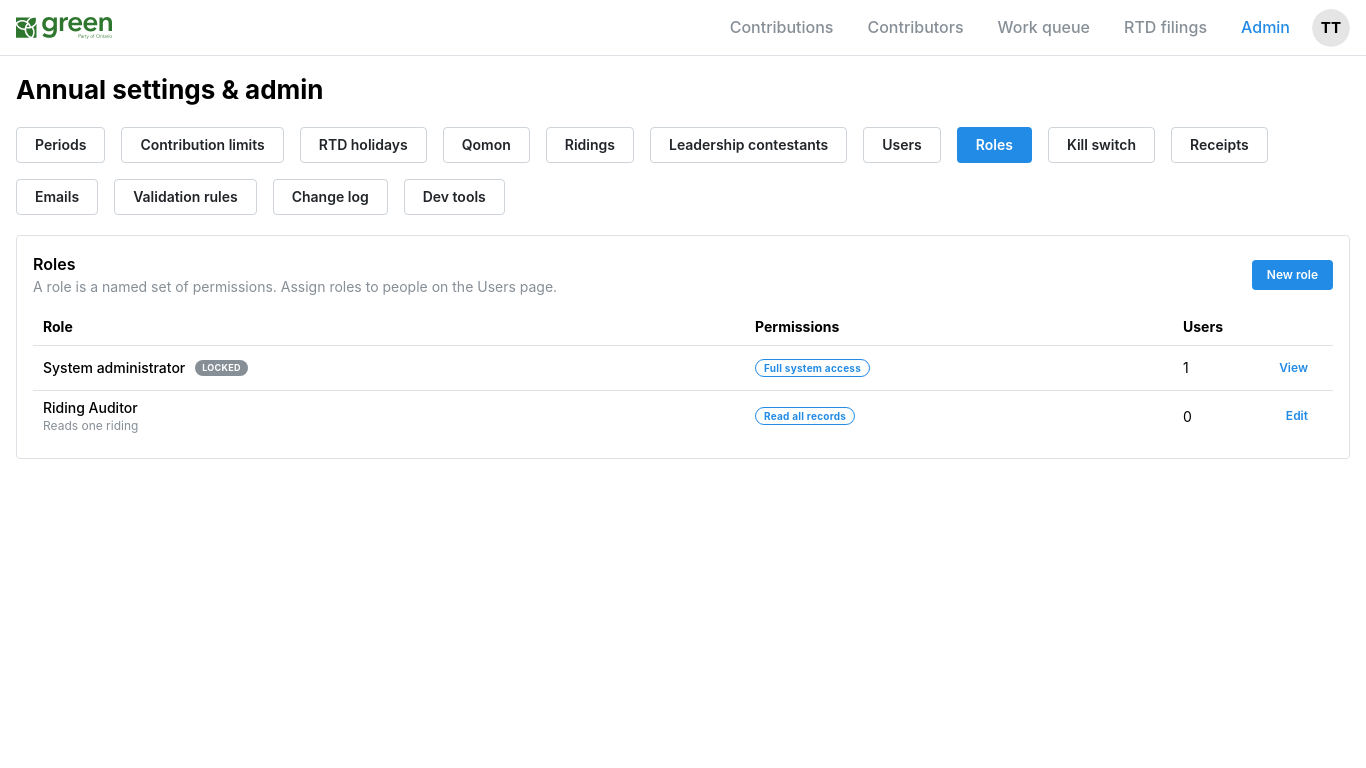
Test: the locked sysadmin role opens read-only
What coordinates should you click on to do the following:
click the button "View"
I would click on:
 (1294, 368)
Its box is x1=1264 y1=353 x2=1323 y2=383.
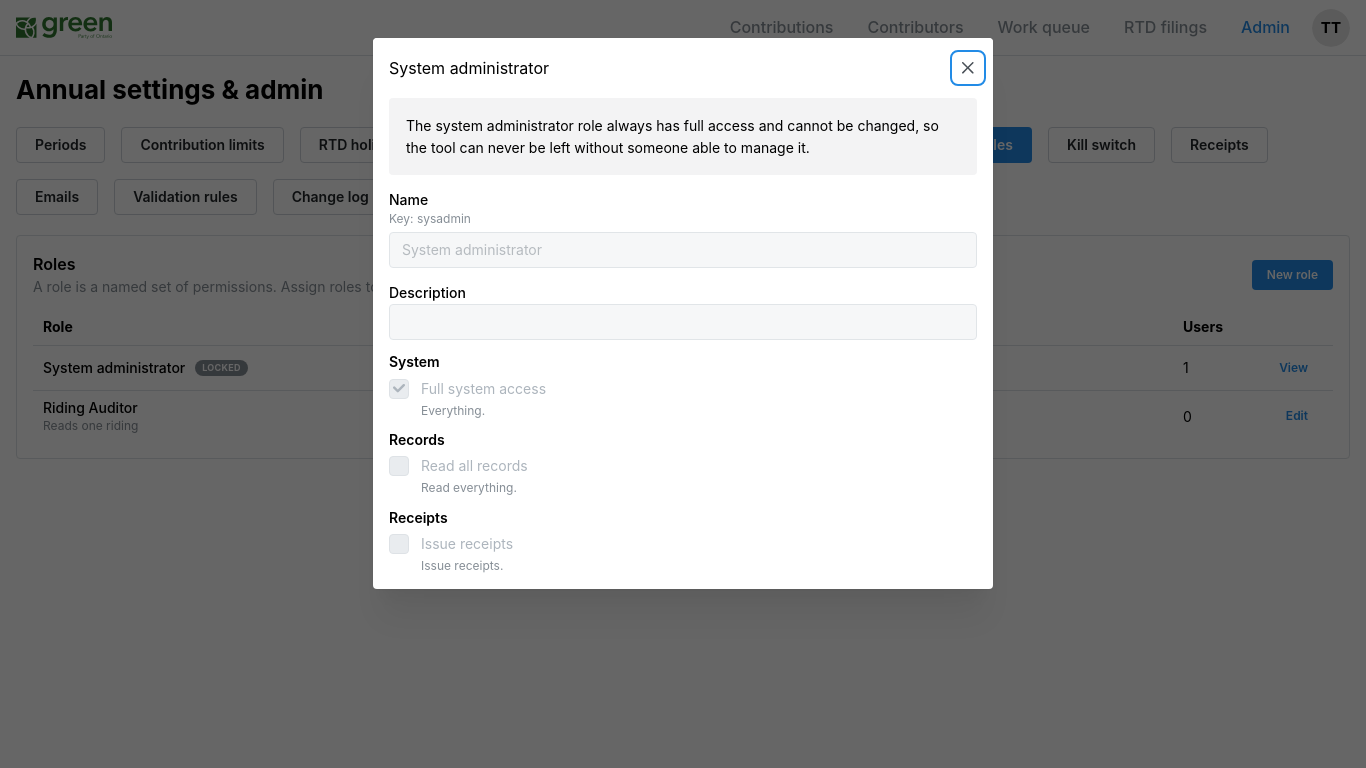
Expected: the checkbox labelled "Full system access" is disabled, x1=389 y1=379 x2=409 y2=399
